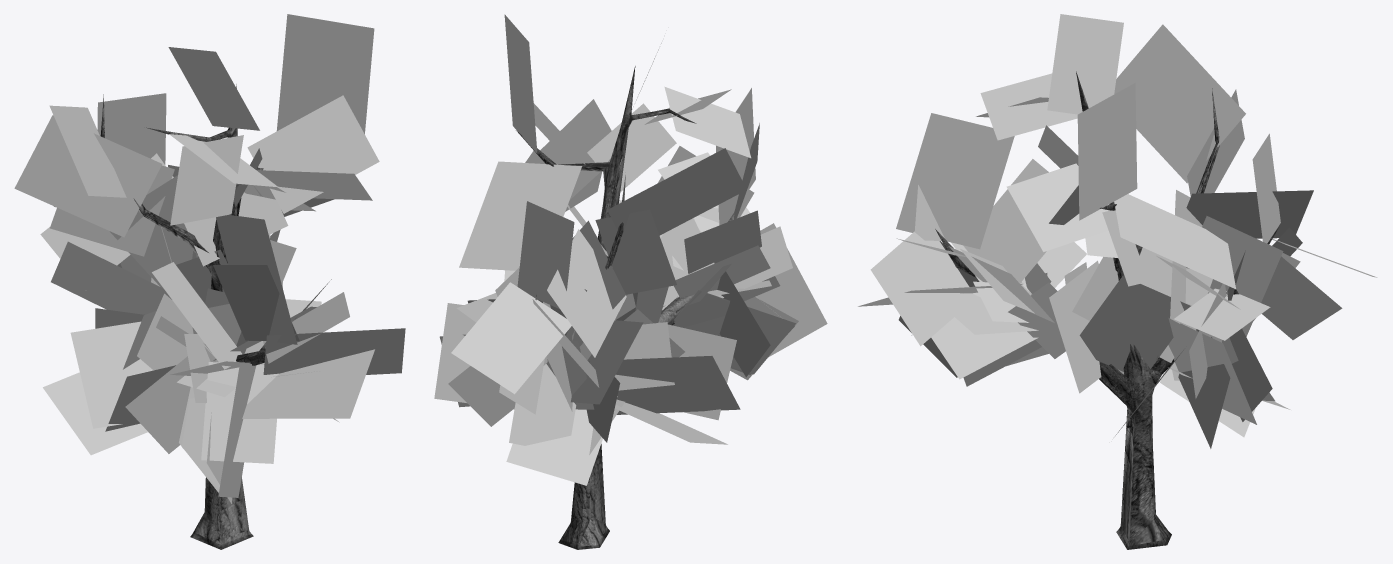
The model's file is SM_Tree_And_Bushes.fbx_SM_Tree_1_Lod.fbx.
The picture shows the model from 3 angles, left to right: view 1: azimuth 30°, elevation 25°; view 2: azimuth 150°, elevation 25°; view 3: azimuth 270°, elevation 25°; orthographic projection. The views are drawn at different scales.
Parts seen in each view (by area): view 1: SM_Tree_1_Lod_High.001, SM_Tree_1_Lod_Mid.001, SM_Tree_1_Lod_Low, SM_Tree_1_Lod_High, SM_Tree_1_Lod_Mid; view 2: SM_Tree_1_Lod_High.001, SM_Tree_1_Lod_Mid.001, SM_Tree_1_Lod_High, SM_Tree_1_Lod_Low, SM_Tree_1_Lod_Mid; view 3: SM_Tree_1_Lod_High.001, SM_Tree_1_Lod_Mid.001, SM_Tree_1_Lod_Low, SM_Tree_1_Lod_High, SM_Tree_1_Lod_Mid.
Part boxes in pixels (<box>): SM_Tree_1_Lod_High.001: <box>40,14,379,497</box>; SM_Tree_1_Lod_Mid.001: <box>14,93,405,503</box>; SM_Tree_1_Lod_Low: <box>146,134,263,540</box>; SM_Tree_1_Lod_High: <box>100,84,266,549</box>; SM_Tree_1_Lod_Mid: <box>134,86,263,544</box>; SM_Tree_1_Lod_High.001: <box>434,14,827,454</box>; SM_Tree_1_Lod_Mid.001: <box>448,88,798,485</box>; SM_Tree_1_Lod_High: <box>516,67,734,549</box>; SM_Tree_1_Lod_Low: <box>560,128,677,549</box>; SM_Tree_1_Lod_Mid: <box>521,66,686,544</box>; SM_Tree_1_Lod_High.001: <box>858,14,1377,448</box>; SM_Tree_1_Lod_Mid.001: <box>870,89,1342,421</box>; SM_Tree_1_Lod_Low: <box>1099,258,1167,542</box>; SM_Tree_1_Lod_High: <box>935,71,1279,549</box>; SM_Tree_1_Lod_Mid: <box>938,80,1217,546</box>.
Size of the model in its own units: 3727 by 6726 by 6323.
